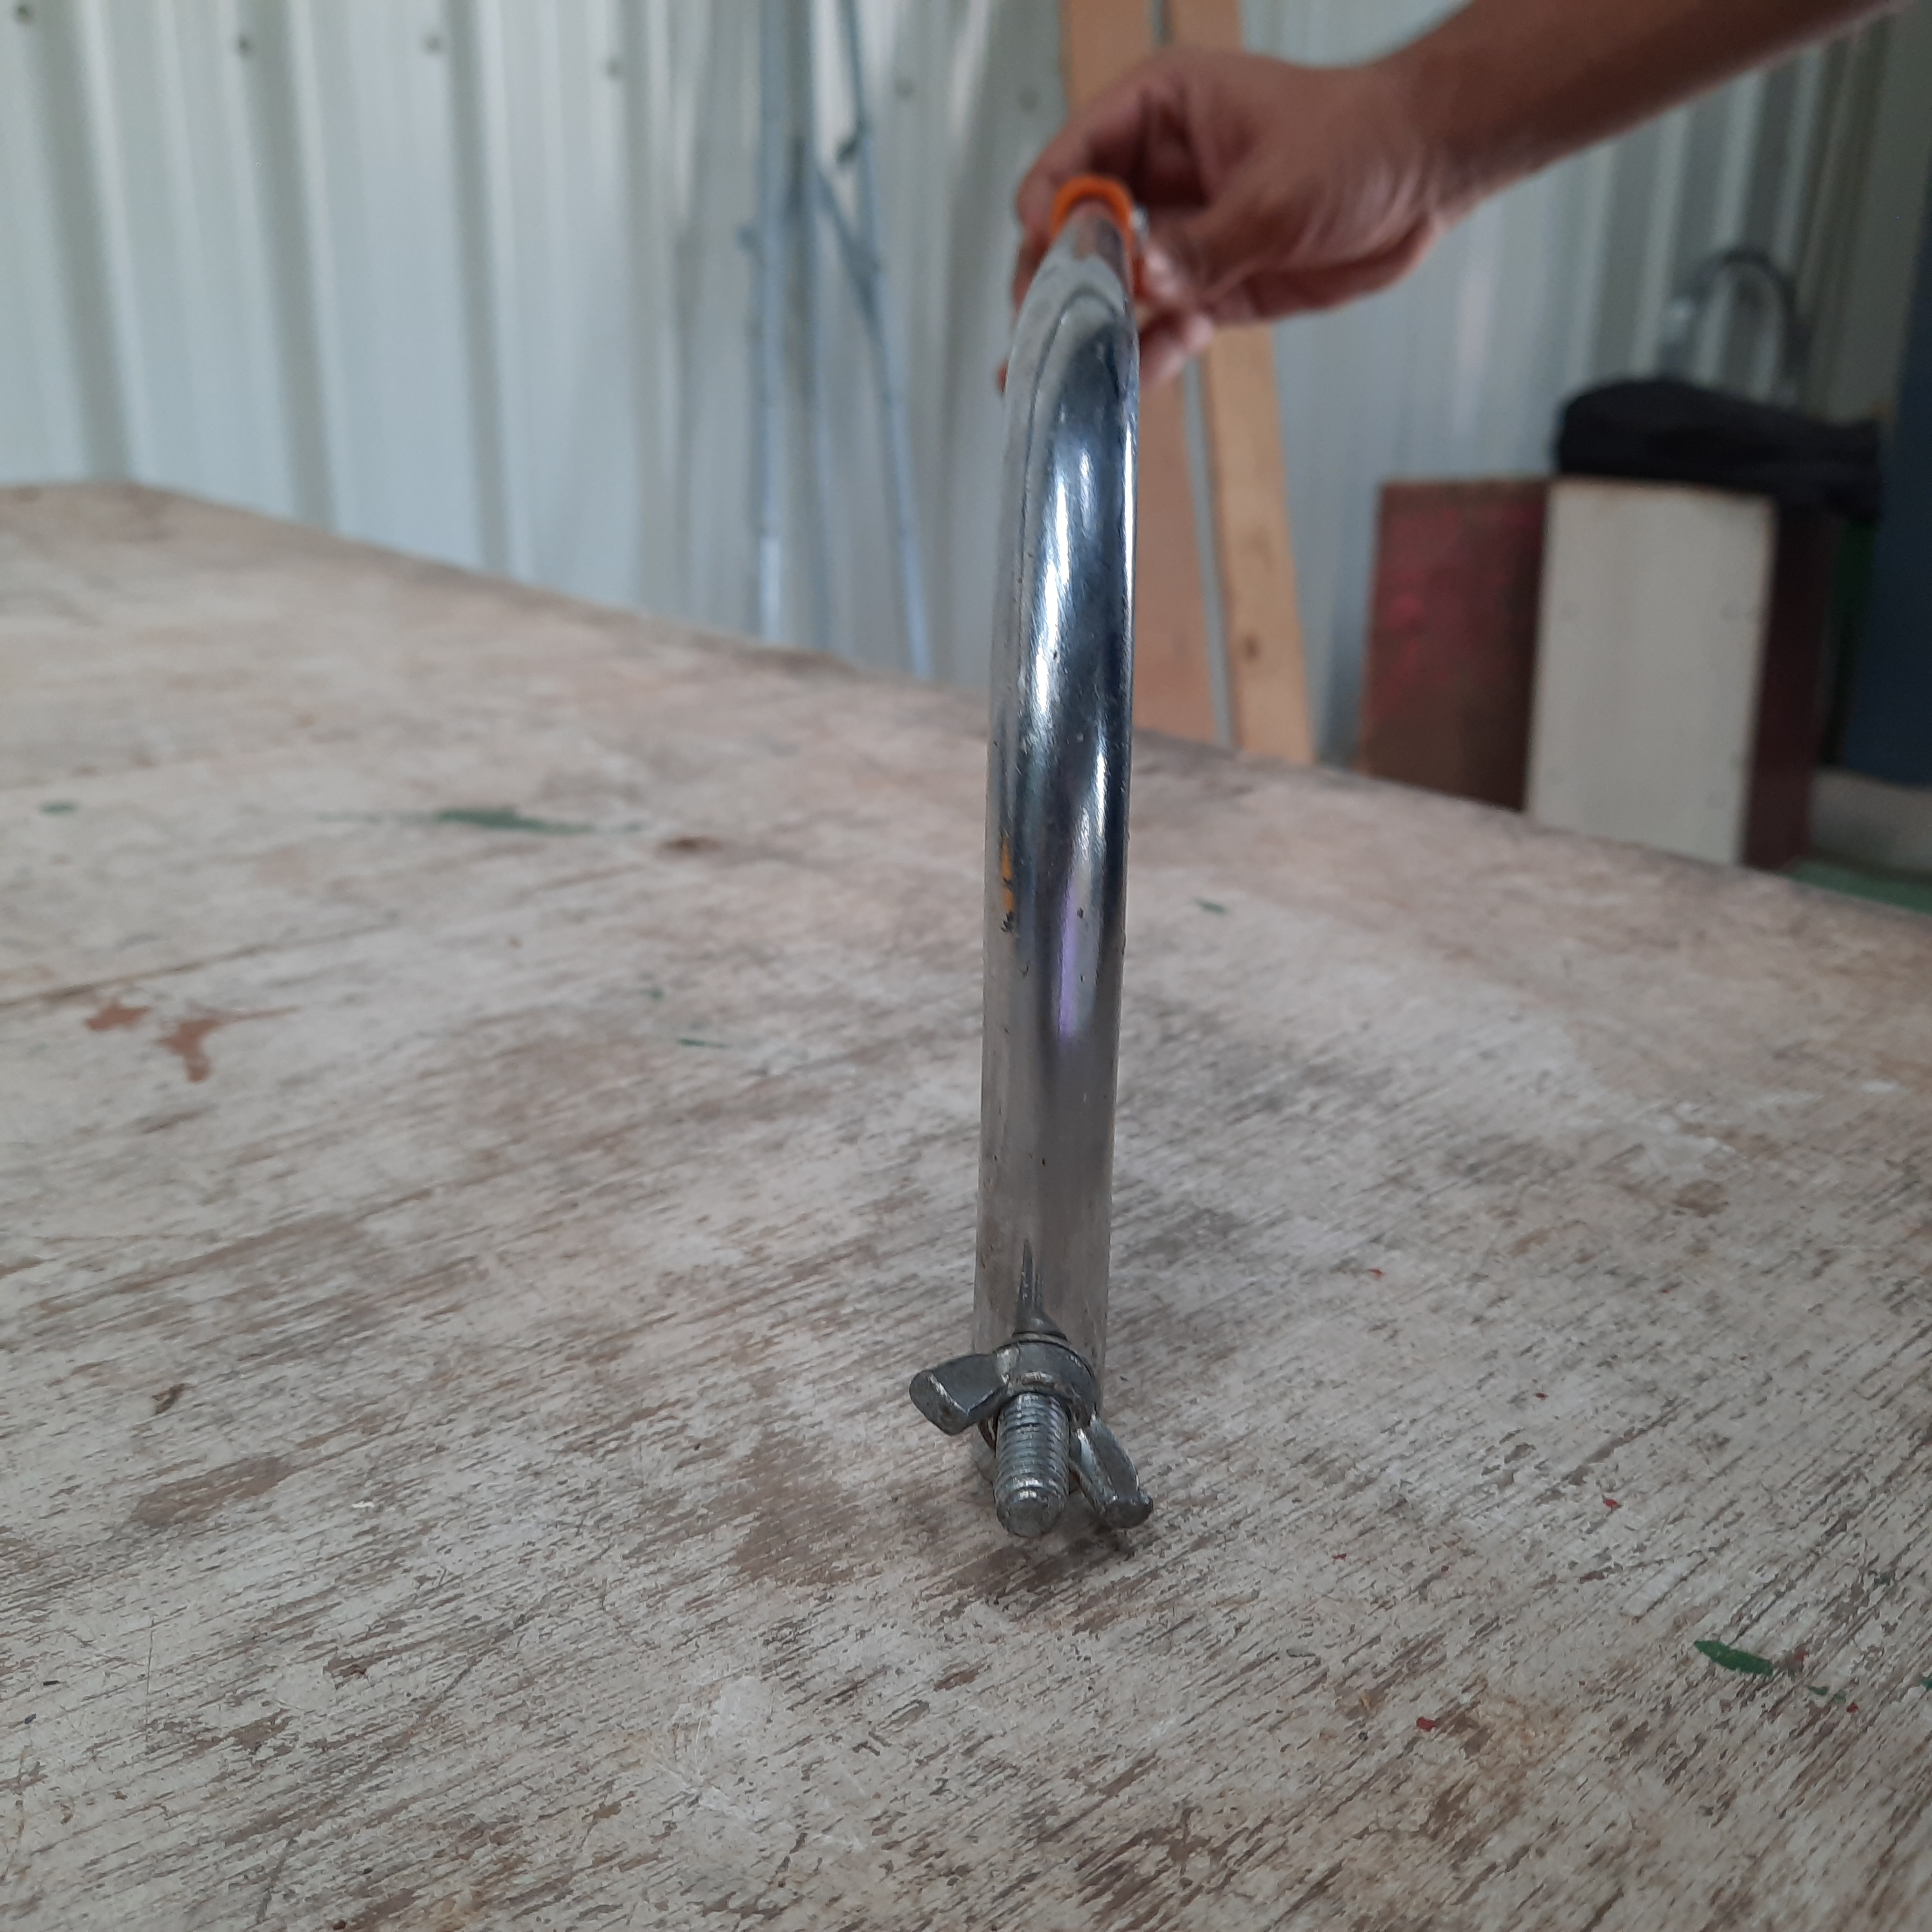Hexaframe: (883, 150, 1258, 1614)
